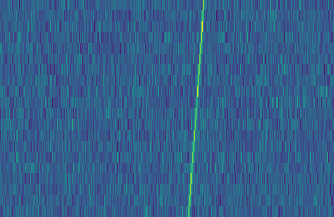signal: (184, 0, 209, 217)
